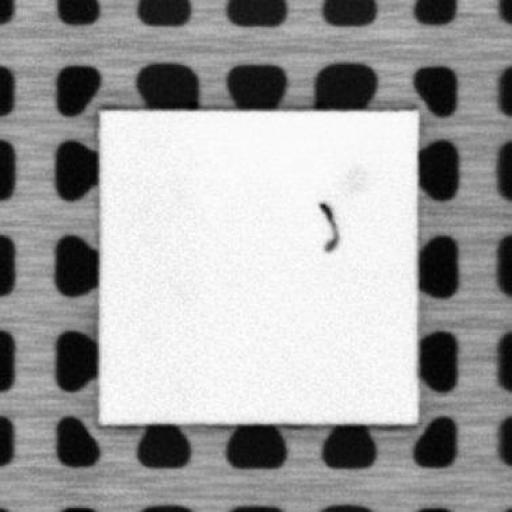DIE_INK: (314, 201, 340, 250)
